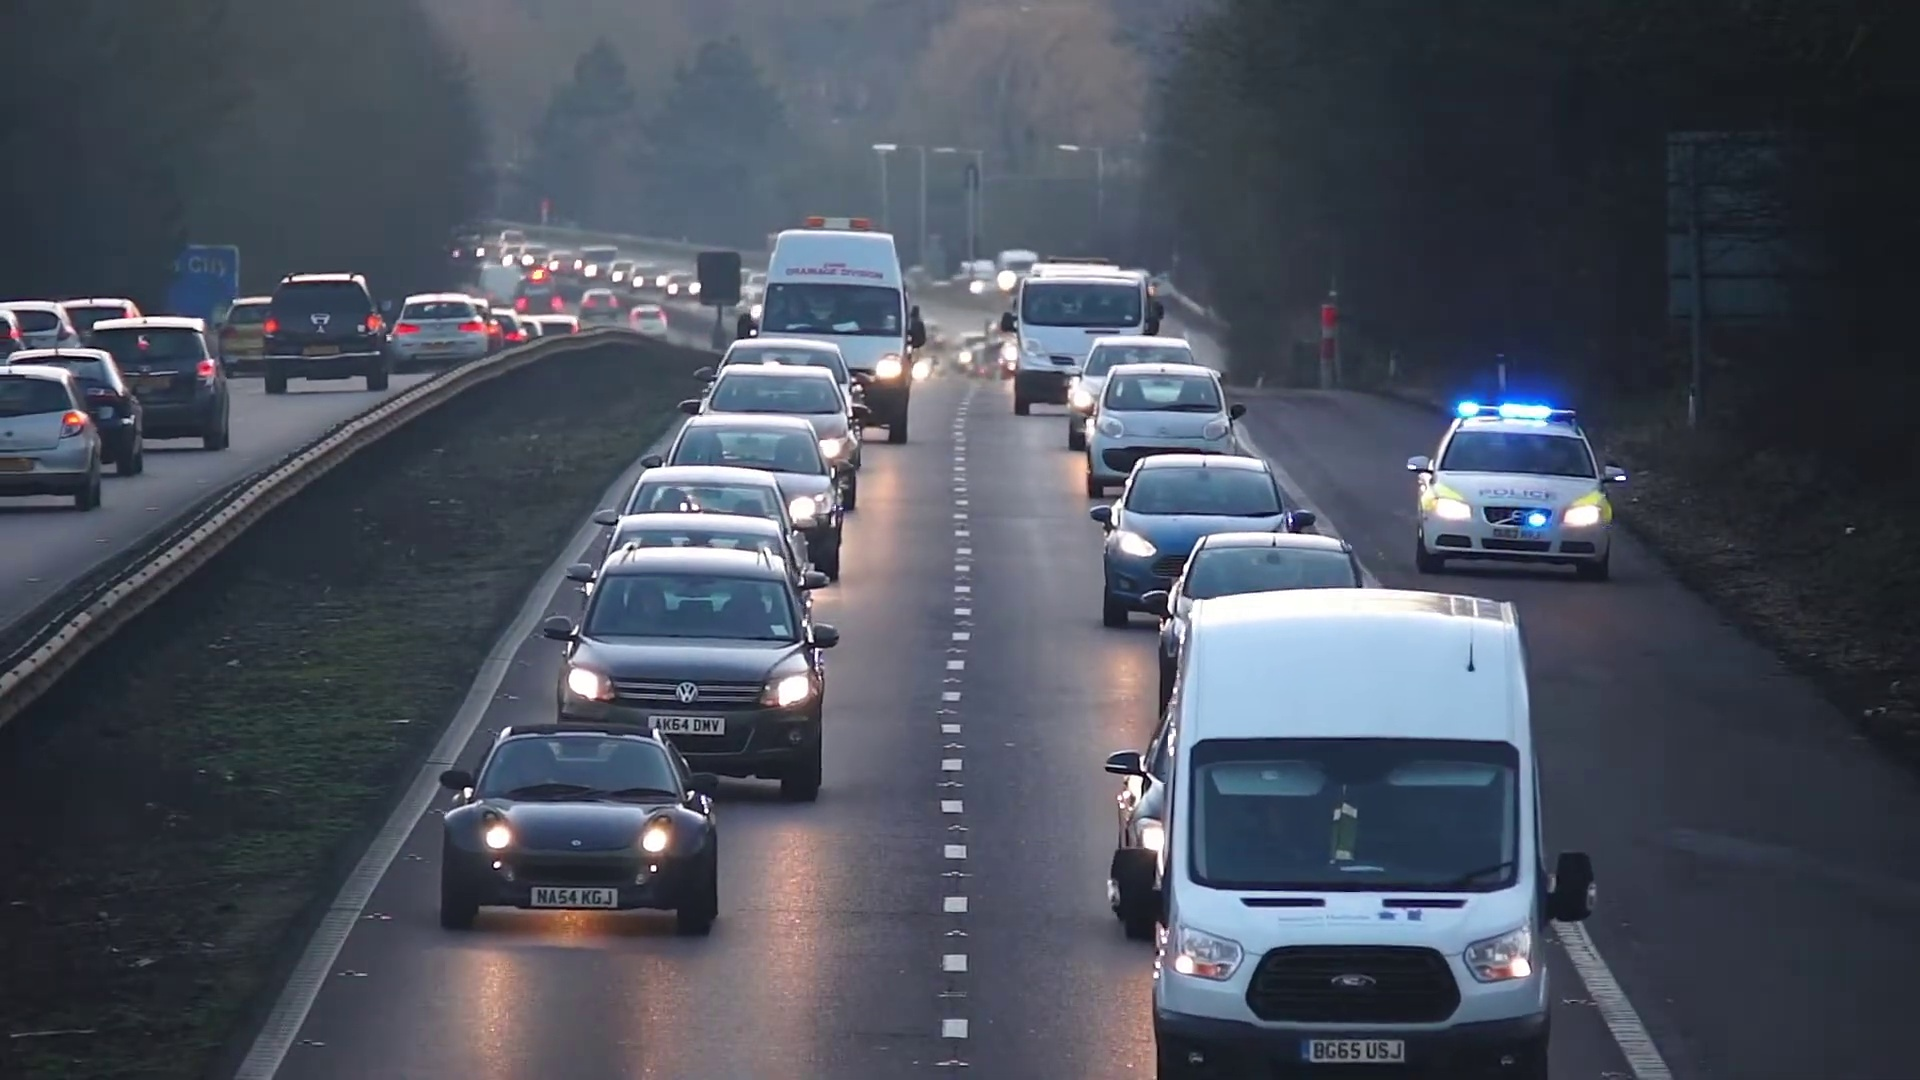license_plate: (524, 885, 620, 914), (1304, 1038, 1407, 1065), (647, 710, 728, 743)
